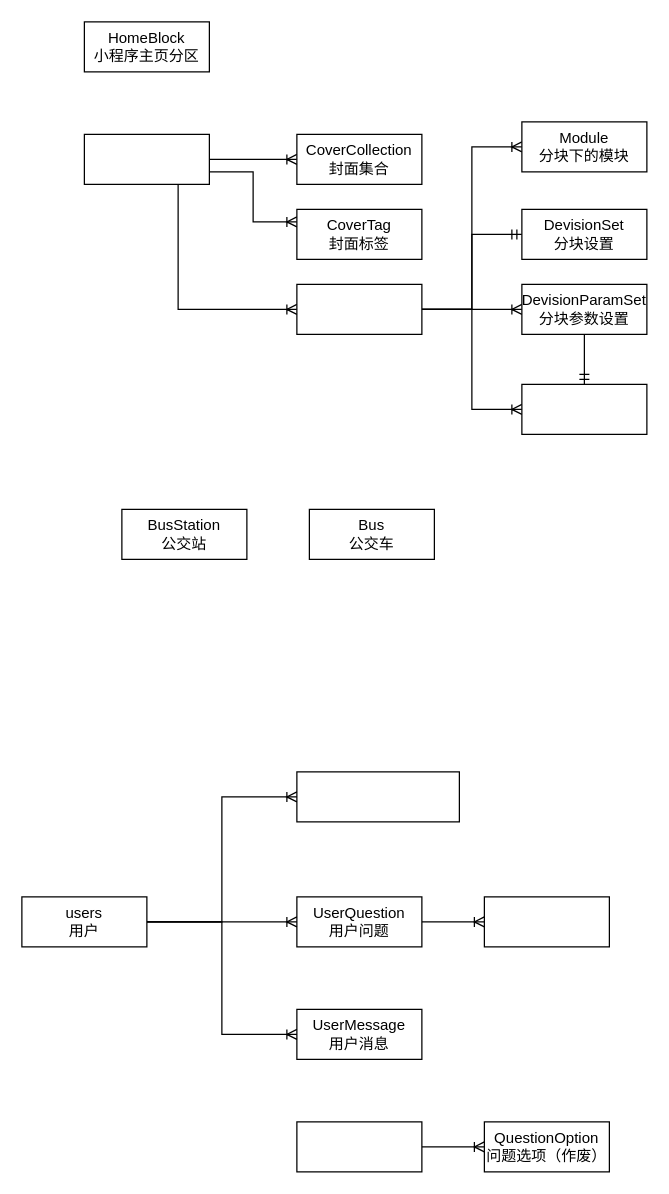
This 669x1194 diagram has some shape labels left out. Here are the shapes that lost their labels. From the top down, the centre of each, then its label:
the point at 146,158: Cover 封面
the point at 359,308: Devision 分块
the point at 584,408: DevisionParam 分块参数
the point at 377,796: MyUnlockProject 我解锁的项目(作废)
the point at 546,921: UserAnswer 用户回答
the point at 359,1146: Question 问题（作废）
